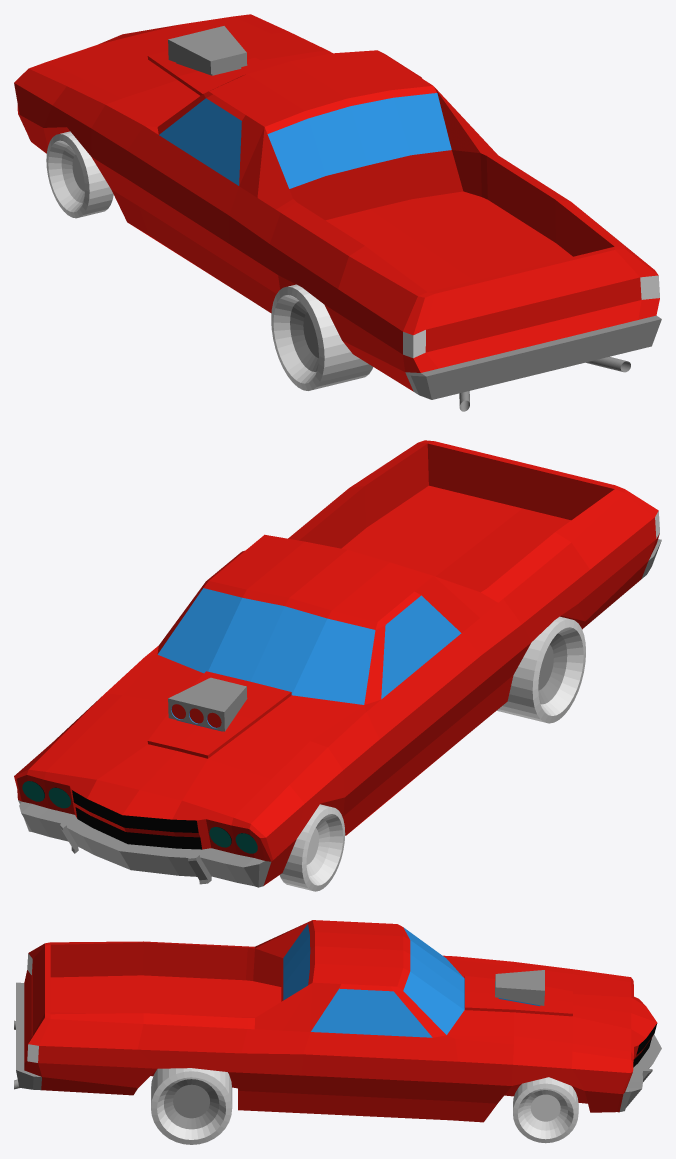
The model's file is el_camino.fbx.
The picture shows the model from 3 angles, top to bottom: view 1: azimuth 30°, elevation 25°; view 2: azimuth 150°, elevation 25°; view 3: azimuth 270°, elevation 25°; orthographic projection. The views are drawn at different scales.
Parts seen in each view (by area): view 1: Circle.001, Rear_left_wheel, front_left_wheel; view 2: Circle.001, Rear_left_wheel, front_left_wheel; view 3: Circle.001, Rear_right_wheel, front_right_wheel.
Part boxes in pixels (<box>): Circle.001: <box>14,14,661,411</box>; Rear_left_wheel: <box>271,284,372,390</box>; front_left_wheel: <box>46,131,113,218</box>; Circle.001: <box>14,440,661,887</box>; Rear_left_wheel: <box>496,616,585,723</box>; front_left_wheel: <box>279,804,345,891</box>; Circle.001: <box>14,920,661,1122</box>; Rear_right_wheel: <box>151,1068,232,1144</box>; front_right_wheel: <box>513,1077,578,1143</box>.
Size of the model in its own units: 381 by 272 by 1063.
